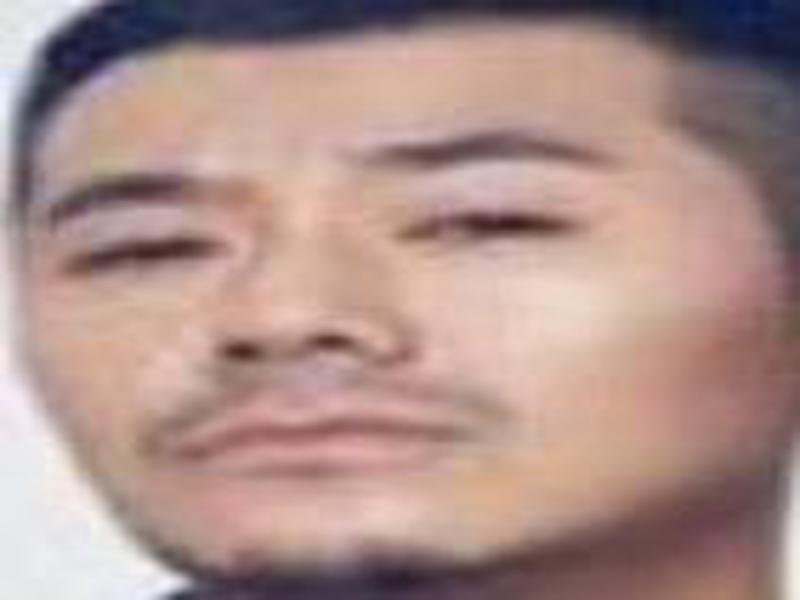without_mask: (17, 72, 740, 580)
